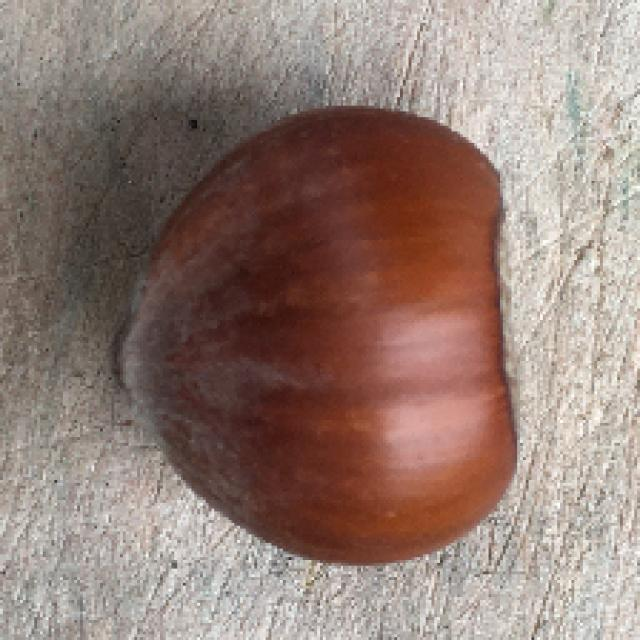qualityHazelnut: (101, 106, 537, 573)
